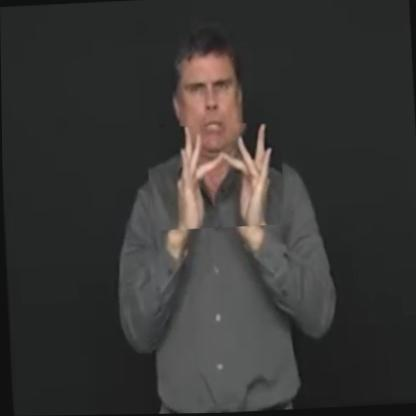Internet: (145, 122, 285, 232)
